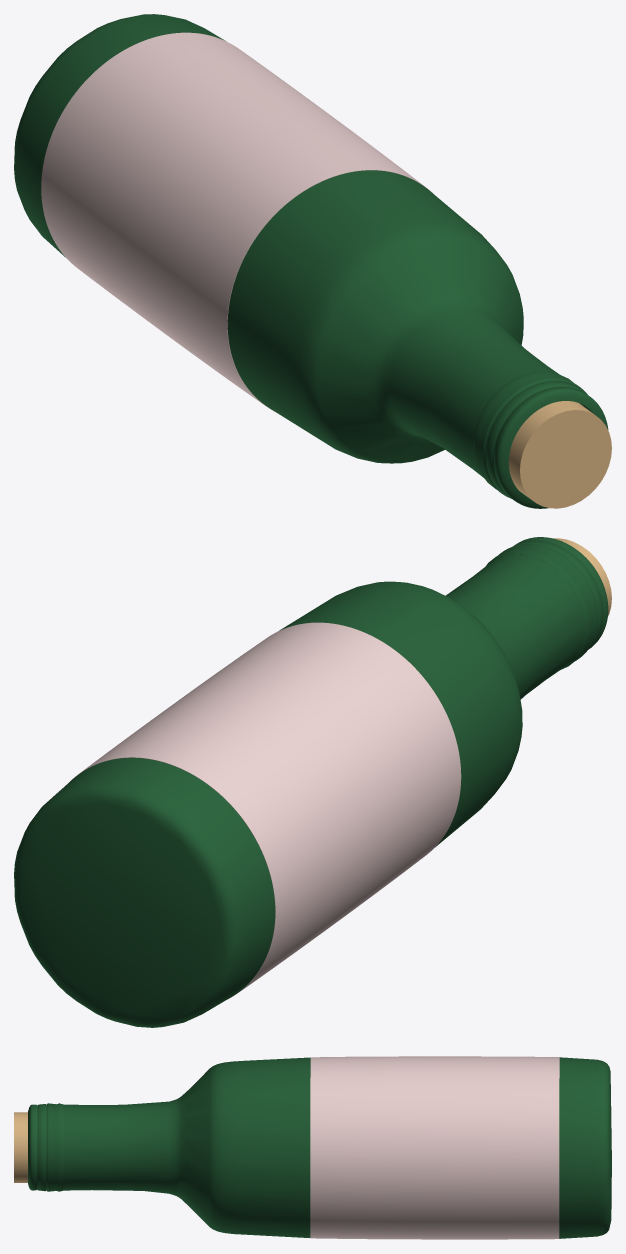
File: Wine.dae
3 renders of one model, top to bottom at view 1: azimuth 30°, elevation 25°; view 2: azimuth 150°, elevation 25°; view 3: azimuth 270°, elevation 25°, orthographic. The views are drawn at different scales.
Visible parts, largest first — view 1: Glass, Label, Cork; view 2: Glass, Label; view 3: Label, Glass, Cork.
Part boxes in pixels (left/top/right/bottom): Glass: left=14, top=14, right=608, bottom=508; Label: left=41, top=32, right=433, bottom=410; Cork: left=508, top=401, right=611, bottom=508; Glass: left=14, top=537, right=608, bottom=1027; Label: left=70, top=622, right=461, bottom=998; Label: left=310, top=1056, right=559, bottom=1239; Glass: left=28, top=1057, right=611, bottom=1238; Cork: left=14, top=1112, right=27, bottom=1182.
Bounding box in the file's own units: 59.53 × 59.51 × 194.
